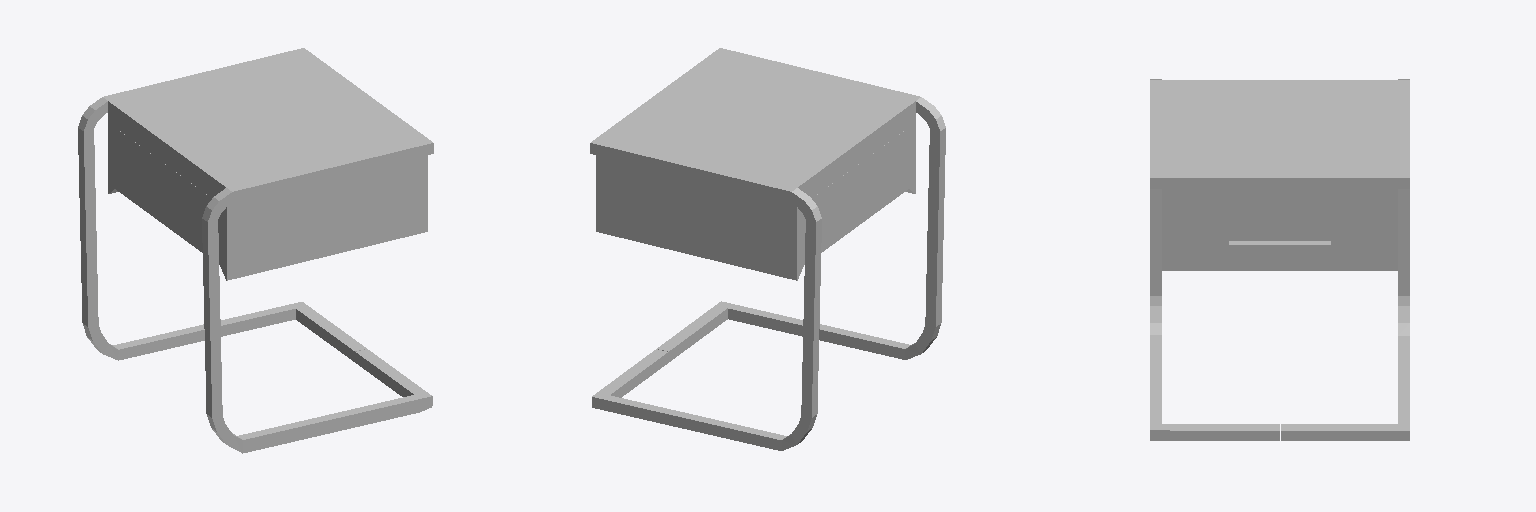
Rendered from sofa.obj.
The picture shows the model from 3 angles: view 1: azimuth 30°, elevation 25°; view 2: azimuth 150°, elevation 25°; view 3: azimuth 270°, elevation 25°; orthographic projection.
Visible parts, largest first — view 1: SideTable_High:pCube1; view 2: SideTable_High:pCube1; view 3: SideTable_High:pCube1.
Part boxes in pixels (bbox=[...]): SideTable_High:pCube1: bbox=[78, 48, 433, 453]; SideTable_High:pCube1: bbox=[590, 48, 945, 450]; SideTable_High:pCube1: bbox=[1150, 79, 1409, 440].
Size of the model in its own units: 2.9 by 3.26 by 2.88.